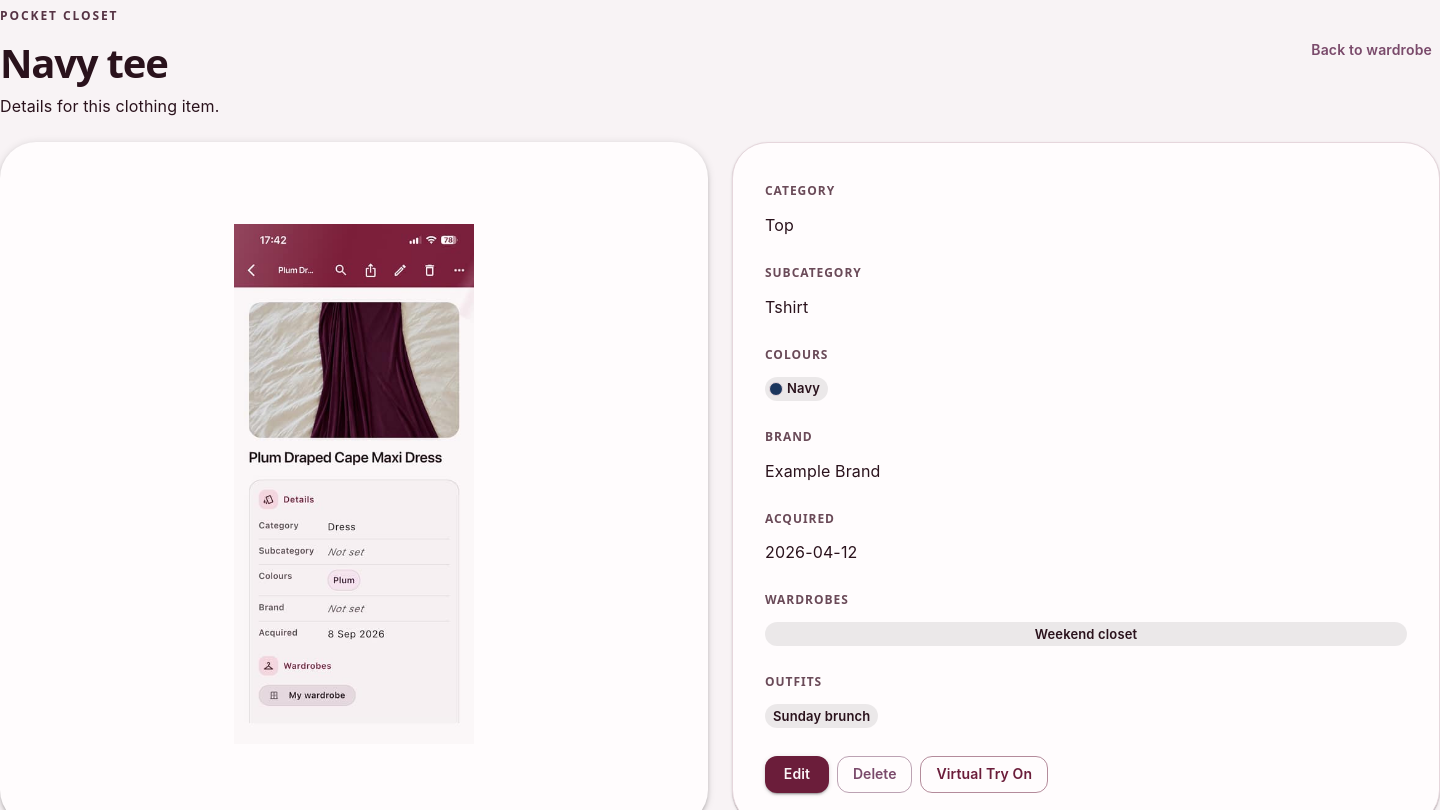
Test: ItemDetailPage › shows the server delete error, or a fallback when there is no message
This screenshot has width=1440, height=810.
Click the button with aria-label "Delete this clothing item" at (875, 775), box 837,756 -> 912,793
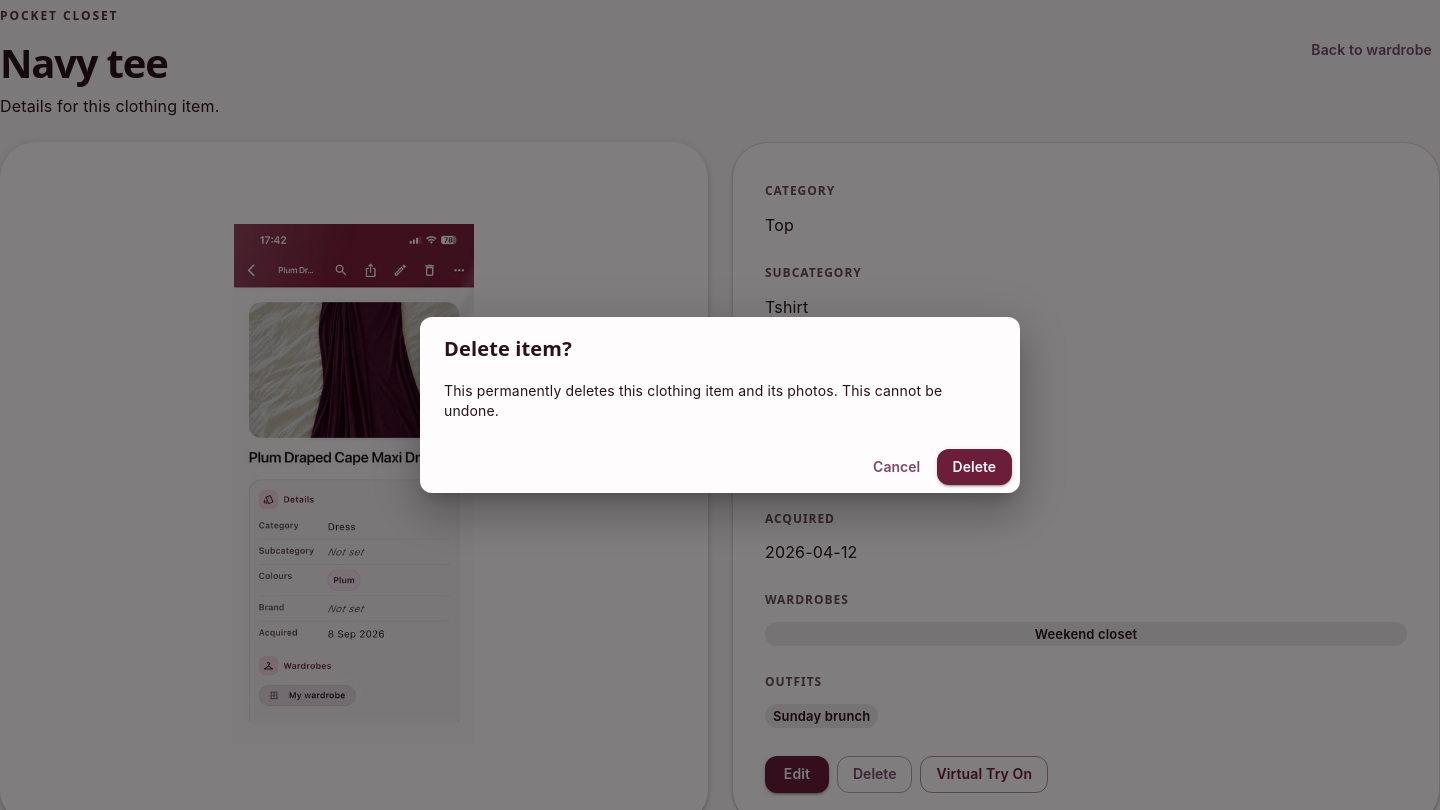
Click the button "Delete" at (974, 467), box 937,449 -> 1012,485
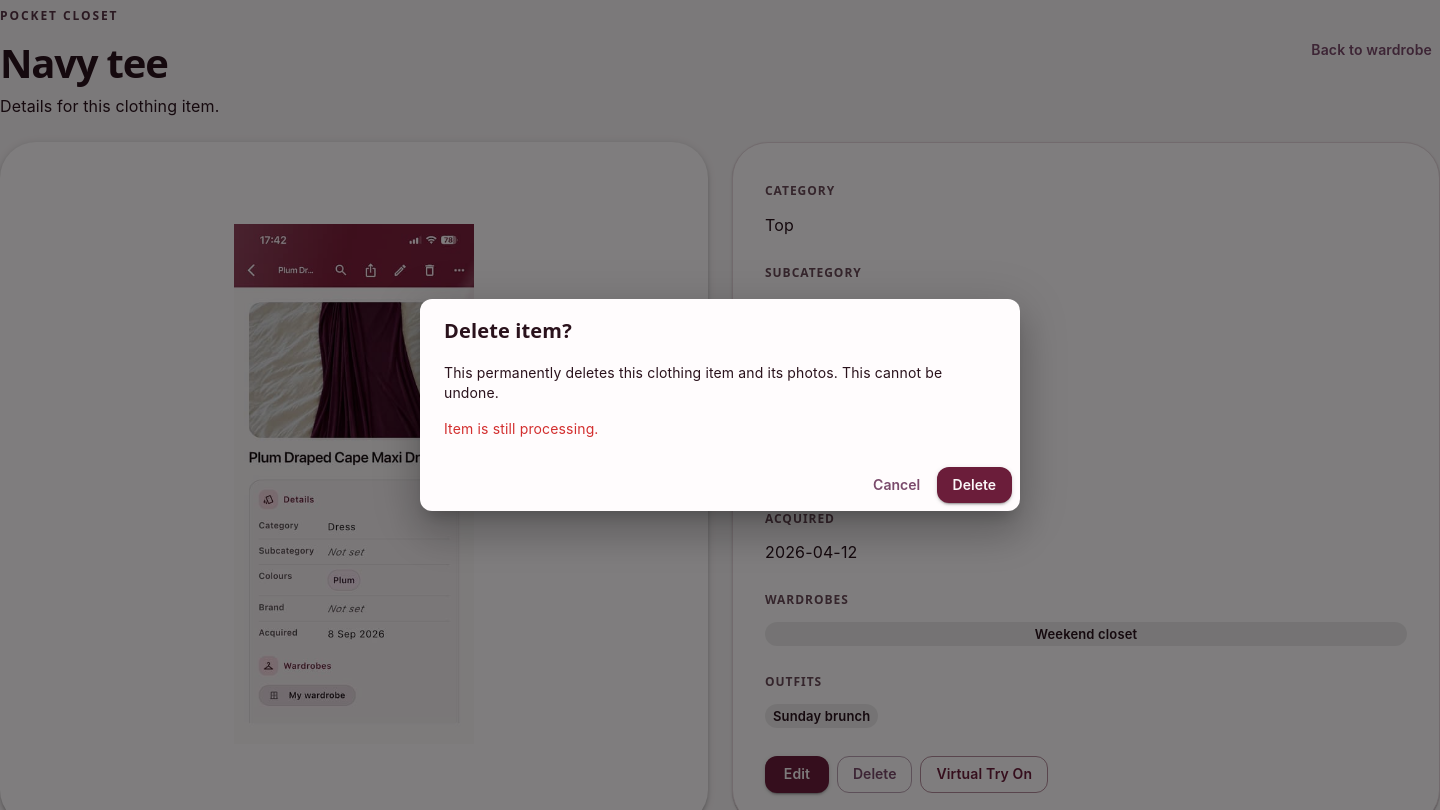
Result: the message reads "Item is still processing." at 444,420 -> 598,437
Click the button "Delete" at (974, 485), box 937,467 -> 1012,503
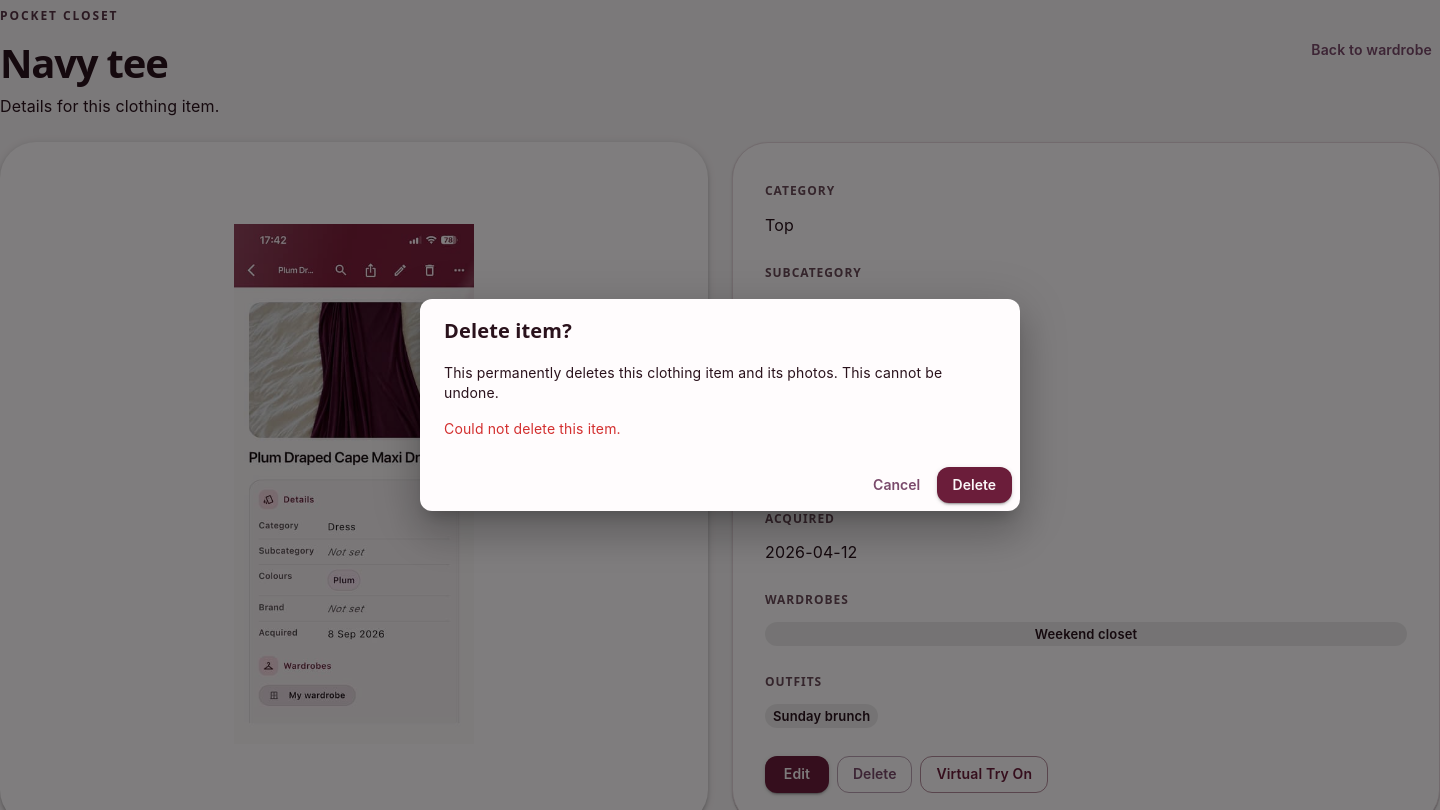
Result: the message reads "Could not delete this item." at 444,420 -> 621,437
